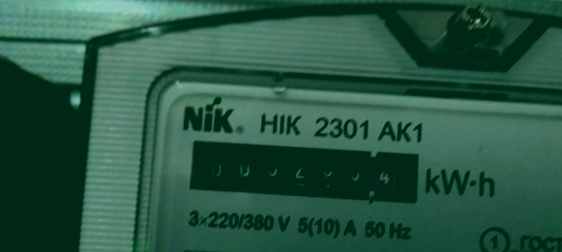0: (206, 152, 223, 179), (235, 151, 250, 177)
2: (290, 153, 305, 179)
3: (318, 152, 333, 178)
4: (375, 159, 391, 186)
5: (345, 155, 361, 182), (262, 152, 278, 178)
screen: (178, 130, 429, 210)
